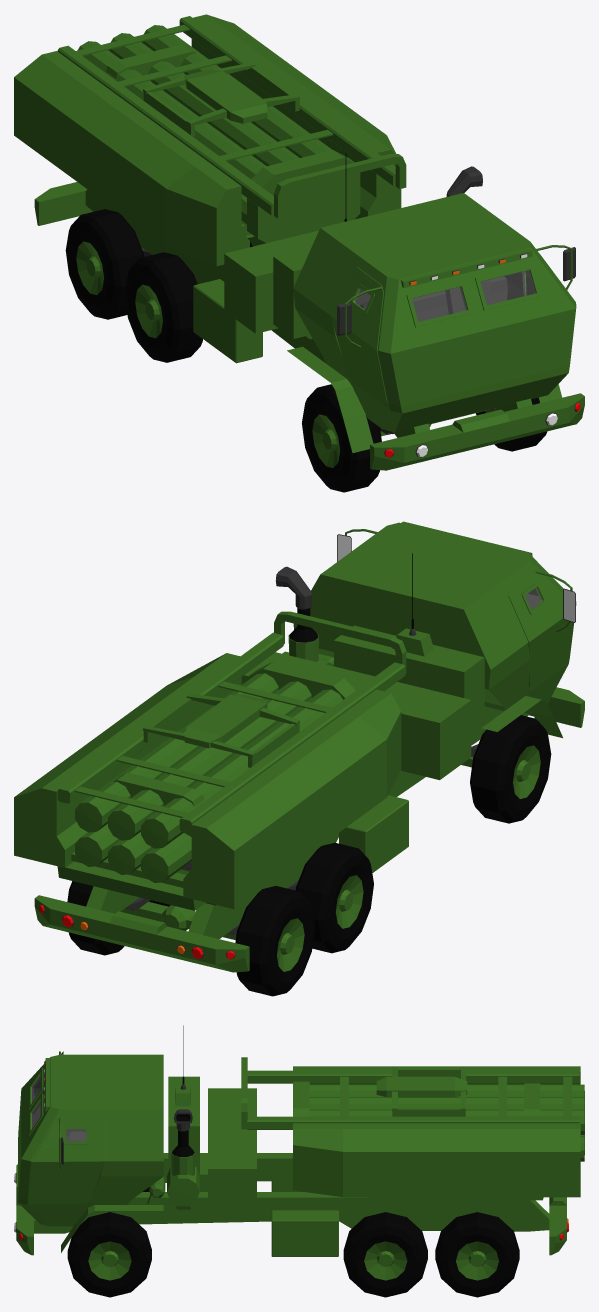
3 renders of one model, top to bottom at view 1: azimuth 30°, elevation 25°; view 2: azimuth 150°, elevation 25°; view 3: azimuth 270°, elevation 25°, orthographic. The views are drawn at different scales.
Parts seen in each view (by area): view 1: Plane.010, Cube.004, Cylinder.014, Cylinder.015, Cylinder.019, Cylinder.017, Plane.011, Plane.014, Plane.012, Plane.013, Cylinder.020; view 2: Plane.010, Cube.004, Cylinder.014, Cylinder.017, Cylinder.019, Cylinder.015, Plane.011, Cylinder.016; view 3: Plane.010, Cube.004, Cylinder.014, Cylinder.018, Cylinder.016, Cylinder.020, Plane.013, Cube.005, Plane.014.
Boxes of the visible parts, x1,y1,x2,y2 form: Plane.010: (34, 153, 584, 470); Cube.004: (14, 14, 406, 266); Cylinder.014: (77, 25, 360, 243); Cylinder.015: (124, 252, 202, 362); Cylinder.019: (65, 209, 144, 319); Cylinder.017: (302, 384, 381, 492); Plane.011: (330, 267, 387, 405); Plane.014: (355, 270, 535, 321); Plane.012: (413, 270, 535, 320); Plane.013: (524, 245, 575, 295); Cylinder.020: (476, 397, 547, 451); Plane.010: (34, 521, 584, 972); Cube.004: (14, 611, 406, 910); Cylinder.014: (75, 661, 355, 882); Cylinder.017: (470, 715, 551, 823); Cylinder.019: (235, 886, 314, 996); Cylinder.015: (295, 842, 373, 953); Plane.011: (508, 570, 575, 689); Cylinder.016: (67, 881, 124, 955); Plane.010: (14, 1025, 568, 1256); Cube.004: (241, 1057, 580, 1197); Cylinder.014: (293, 1081, 584, 1161); Cylinder.018: (343, 1212, 427, 1297); Cylinder.016: (435, 1212, 519, 1297); Cylinder.020: (67, 1212, 151, 1297); Plane.013: (29, 1117, 104, 1203); Cube.005: (369, 1197, 543, 1200); Plane.014: (32, 1075, 86, 1141).
Bounding box in the file's own units: 338 × 388 × 900.
